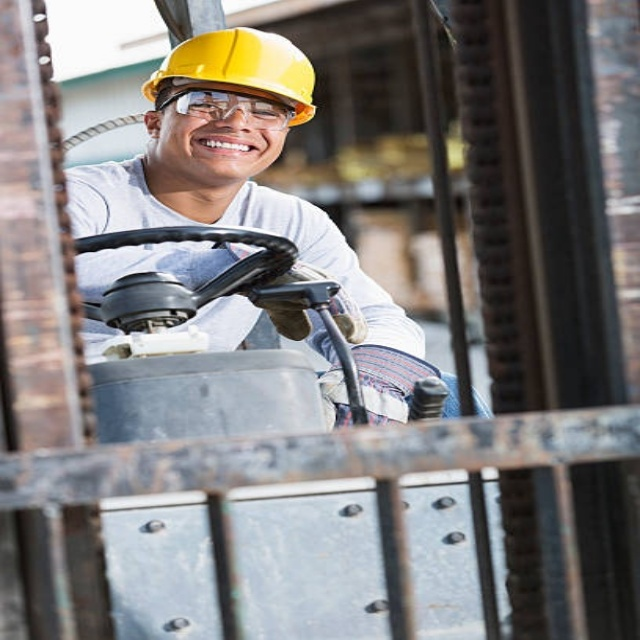Gafas: (160, 89, 299, 130)
Sin_mascara: (185, 133, 260, 170)
